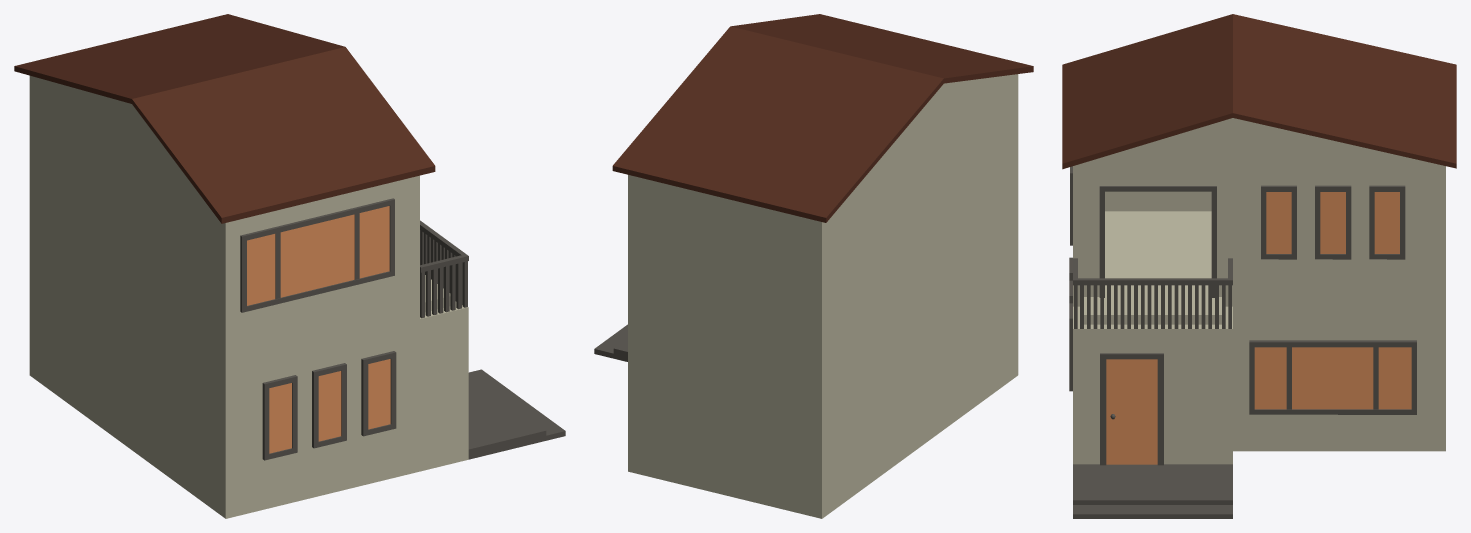
Rendered from casa_02.fbx.
3 views of the same model, side by side, from view 1: azimuth 30°, elevation 25°; view 2: azimuth 150°, elevation 25°; view 3: azimuth 270°, elevation 25° (orthographic). The views are drawn at different scales.
Visible parts, largest first — view 1: Cube.035; view 2: Cube.035; view 3: Cube.035.
Boxes of the visible parts, x1=… form: Cube.035: x1=14, y1=14, x2=565, y2=518; Cube.035: x1=594, y1=14, x2=1033, y2=518; Cube.035: x1=1062, y1=14, x2=1456, y2=518.
Size of the model in its own units: 720 by 710 by 740.
